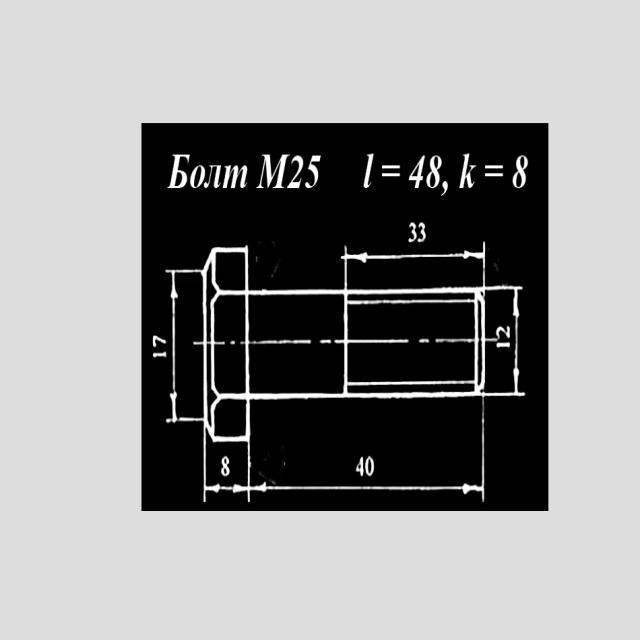marking_line: (250, 484, 482, 496), (168, 269, 181, 416), (348, 250, 482, 260), (509, 291, 522, 393), (206, 481, 247, 499)
numeric: (409, 149, 444, 195), (405, 217, 432, 248), (513, 155, 533, 196), (354, 452, 379, 479), (218, 456, 232, 479)
